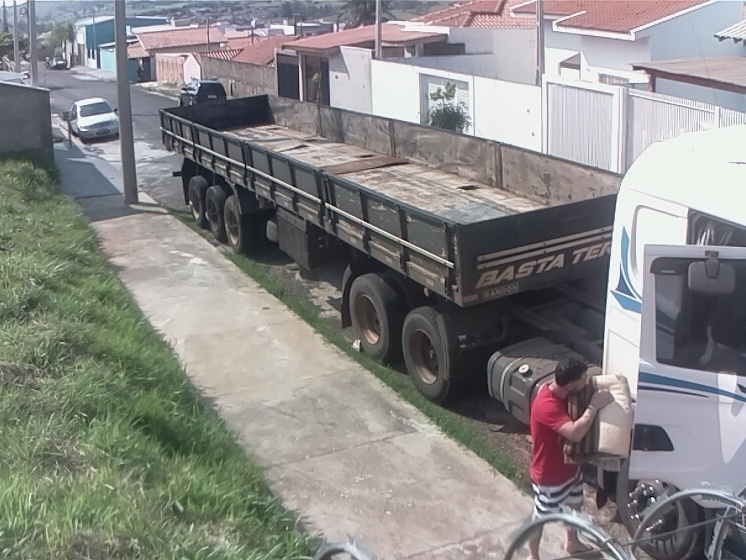person: (525, 352, 618, 560)
